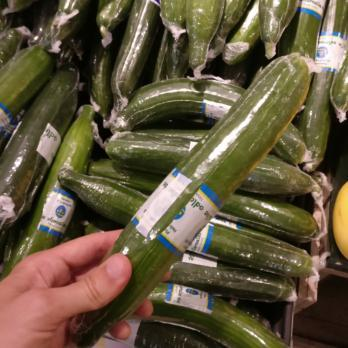Cucumber: (0, 2, 317, 225), (65, 56, 310, 340), (294, 0, 348, 166)
